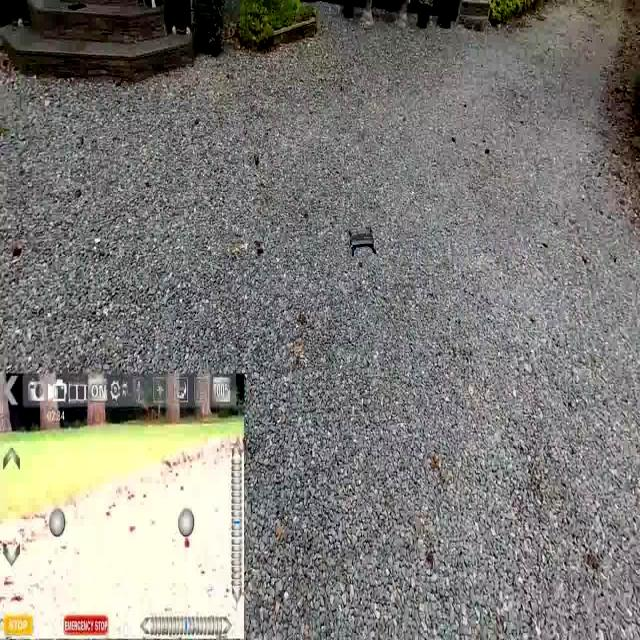drone: (337, 216, 386, 261)
